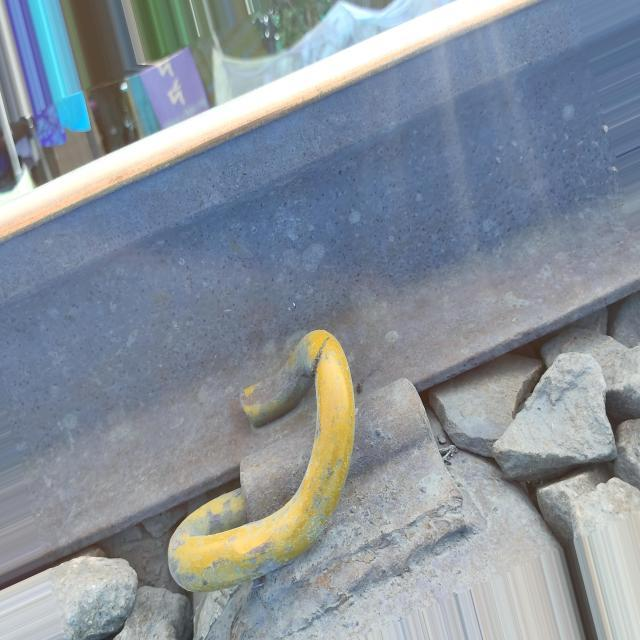Good Fasteners: (167, 311, 483, 626)
